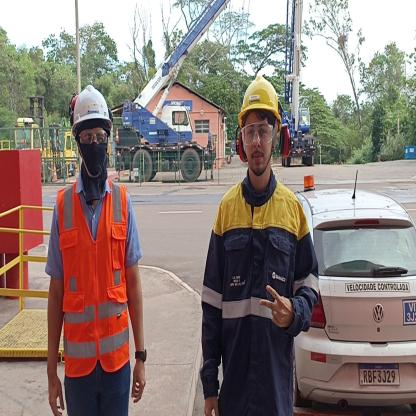Balaclava: (76, 124, 110, 186)
C_eletrica: (198, 176, 316, 416)
Capacete: (237, 72, 281, 112), (72, 84, 110, 121)
colete: (59, 188, 131, 368)
